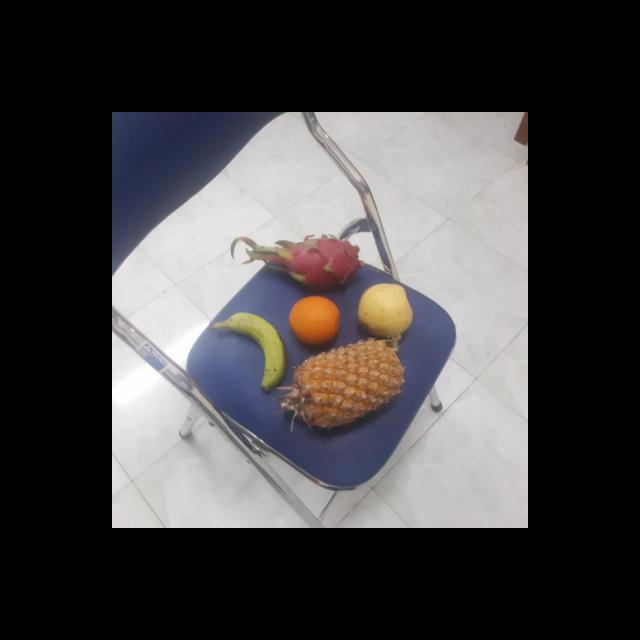banana: (222, 311, 288, 389)
orange: (287, 296, 343, 349)
pear: (352, 282, 414, 338)
pineapple: (283, 342, 403, 427)
pitaya: (272, 235, 361, 292)
